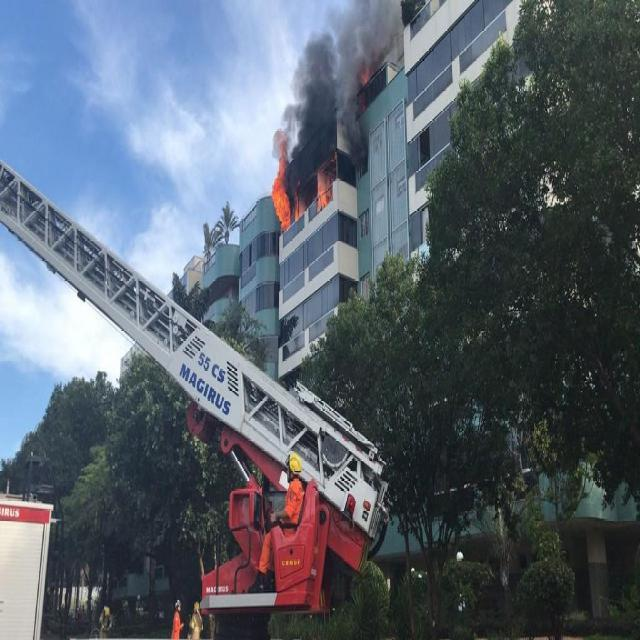Fire: (270, 143, 298, 219)
